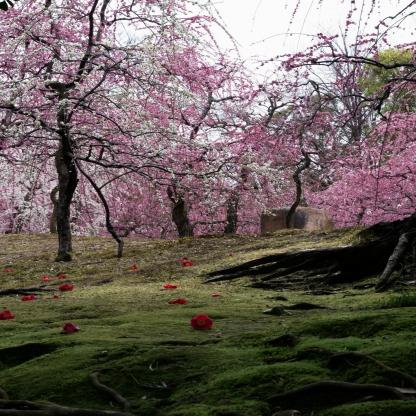Ume: (0, 0, 308, 233), (254, 0, 416, 230)
